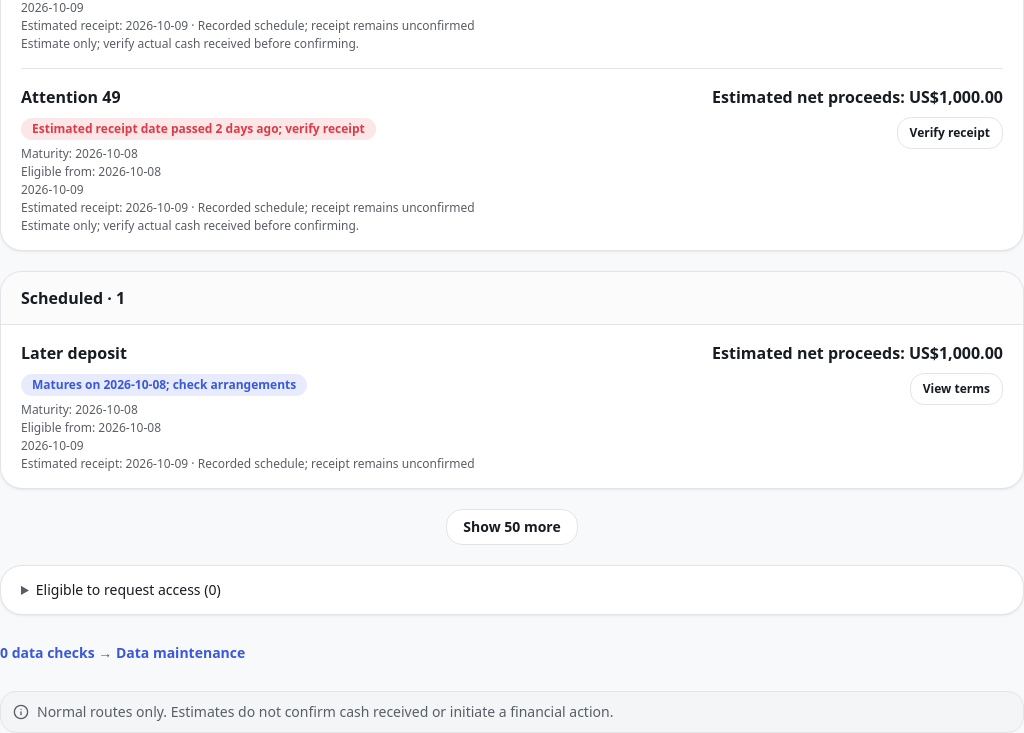
Test: upcoming UI › shows scheduled actions while a long attention band is still paged
The image size is (1024, 733).
(page scrolled)
Expected: the text "Later deposit" is shown, [21,342,127,364]
Click the button "Show 50 more".
click(512, 527)  # box [446,509,578,545]
(page scrolled)
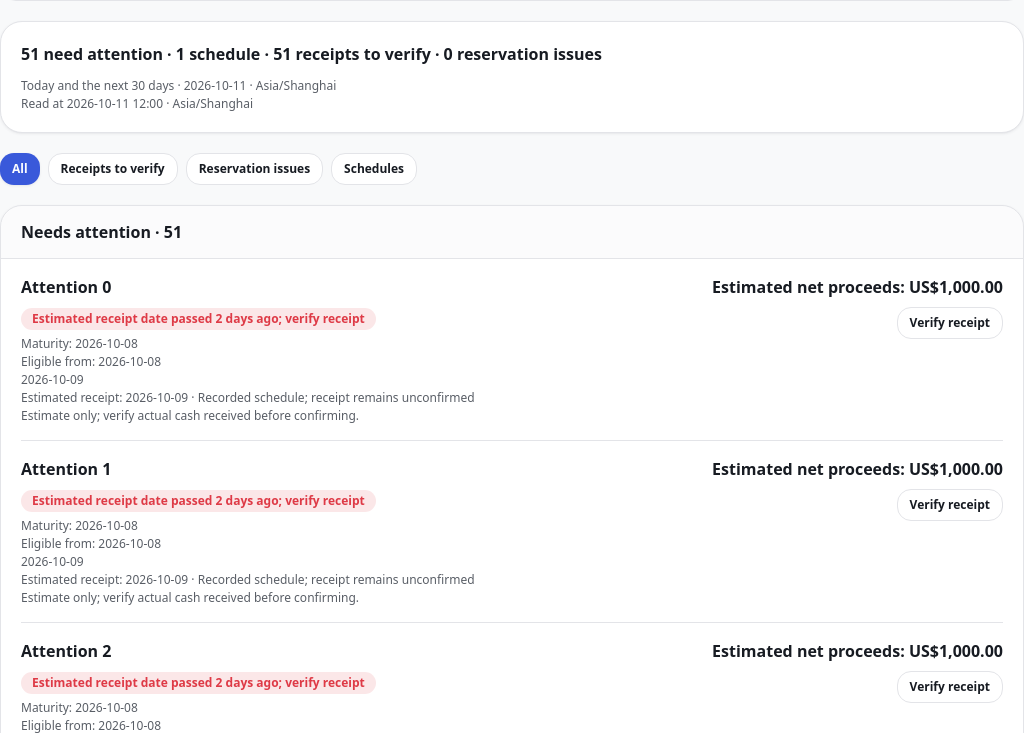
Click the button "Schedules".
click(374, 169)  # box [331,153,417,185]
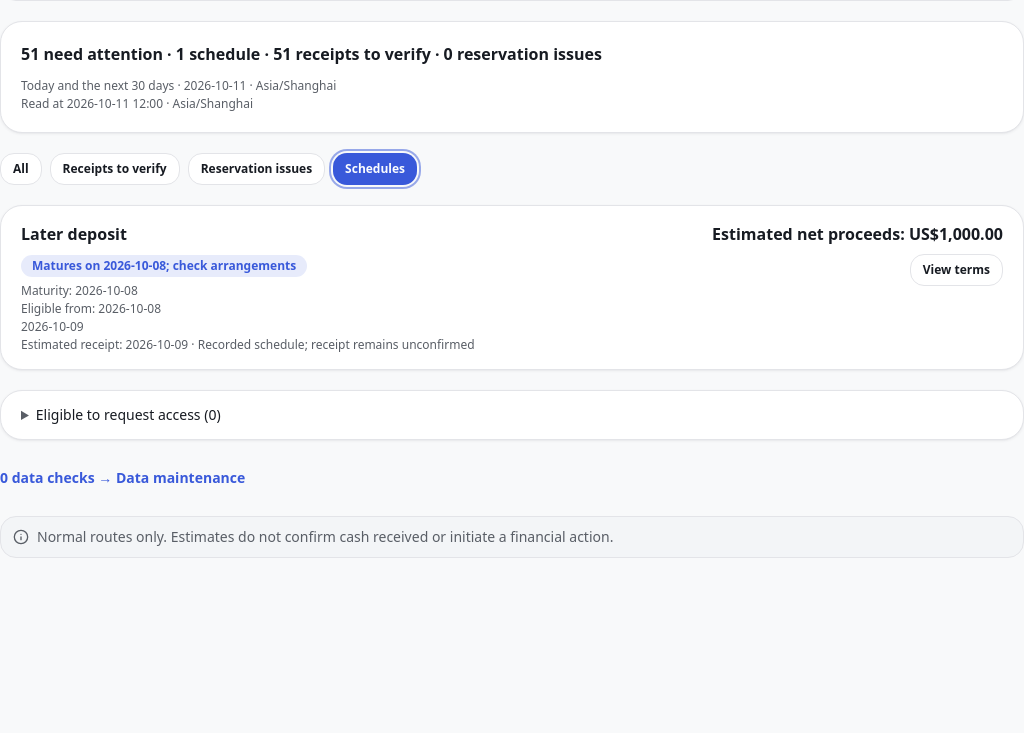
Expected: the text "Later deposit" is shown, [21,223,127,245]
Expected: the text "Attention 0" is gone
